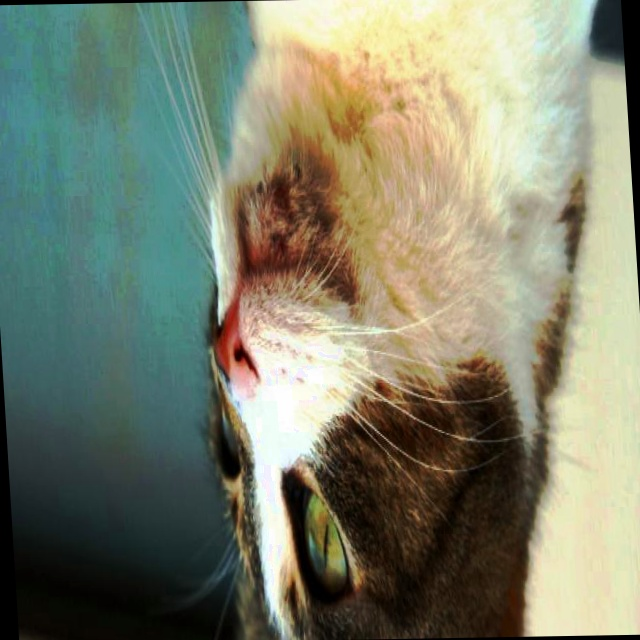acne: (245, 157, 330, 262)
